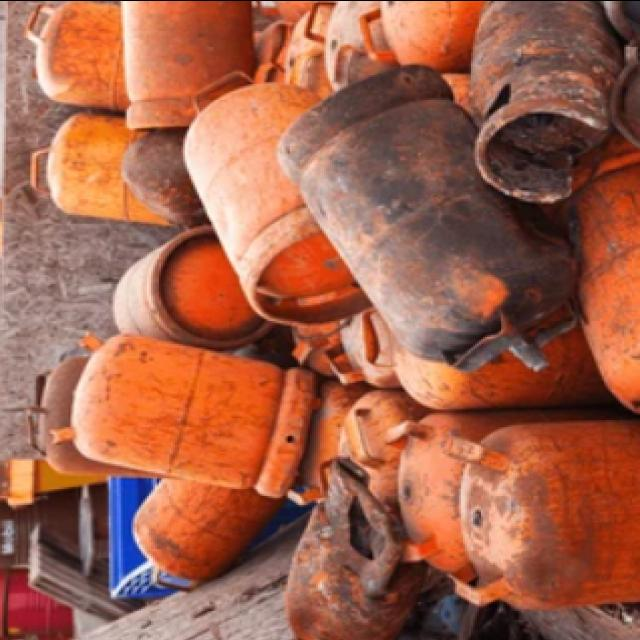cylinder: (277, 63, 582, 373), (182, 69, 376, 326), (50, 332, 314, 498), (441, 420, 638, 609), (472, 2, 626, 200), (112, 224, 274, 349), (31, 113, 172, 223)
